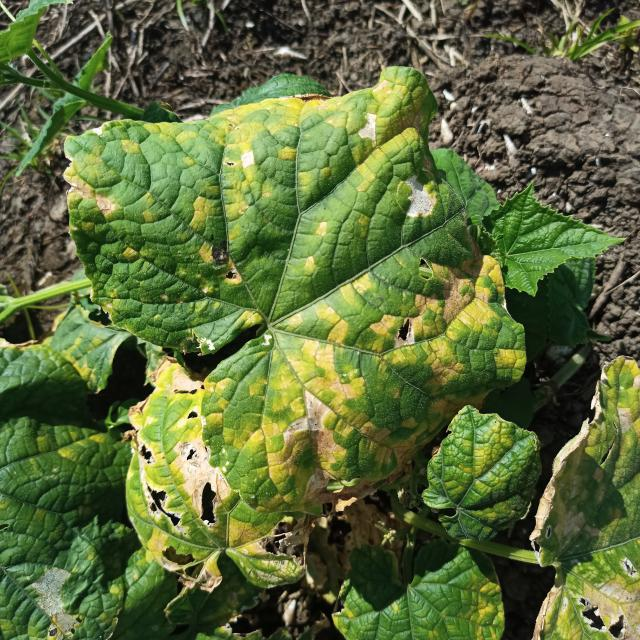disease_cucumber: (67, 67, 504, 553)
